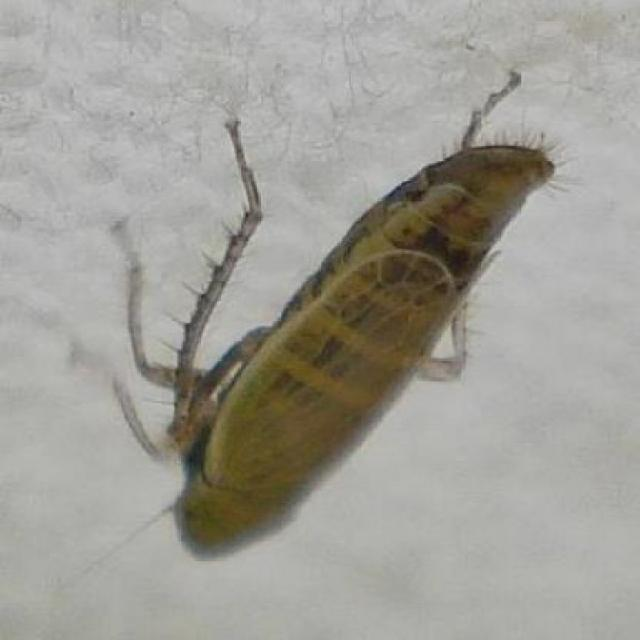green-leafhopper: (166, 124, 546, 562)
